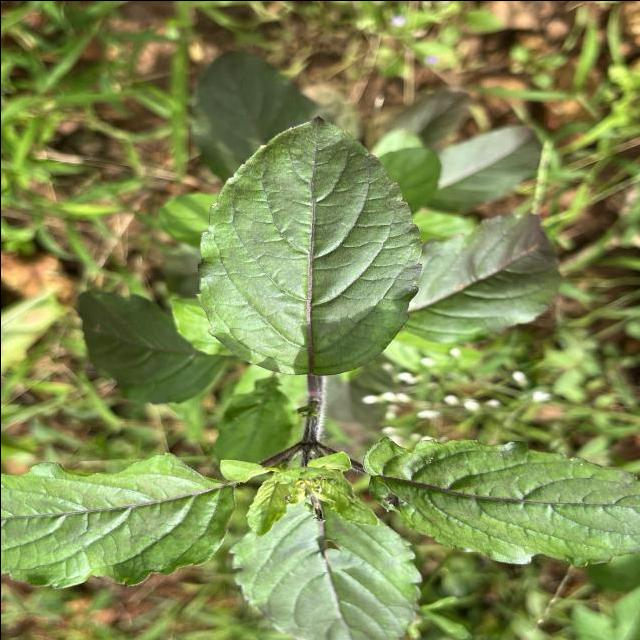Ocimum tenuiflorum: (193, 114, 426, 376)
